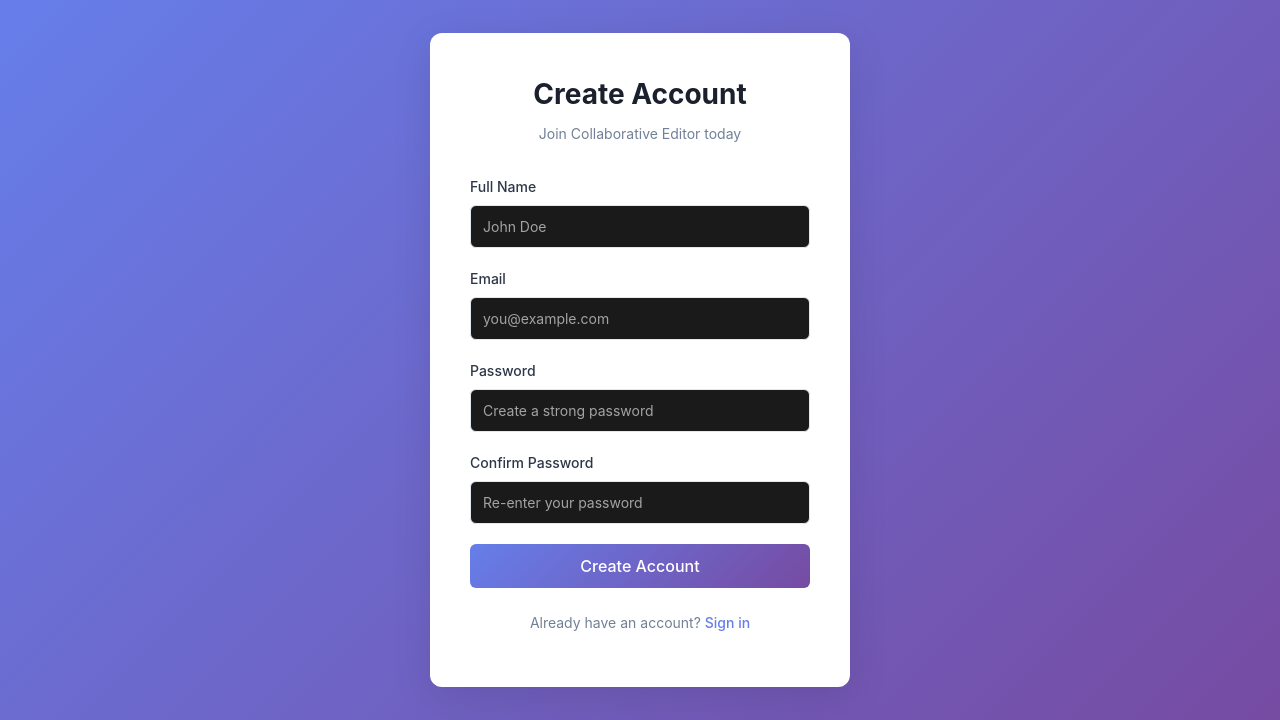
Test: Register Component › shows error when password is too short
In the field labelled "Full Name": {"x": 640, "y": 226} [470, 205, 810, 248], type "Test User"
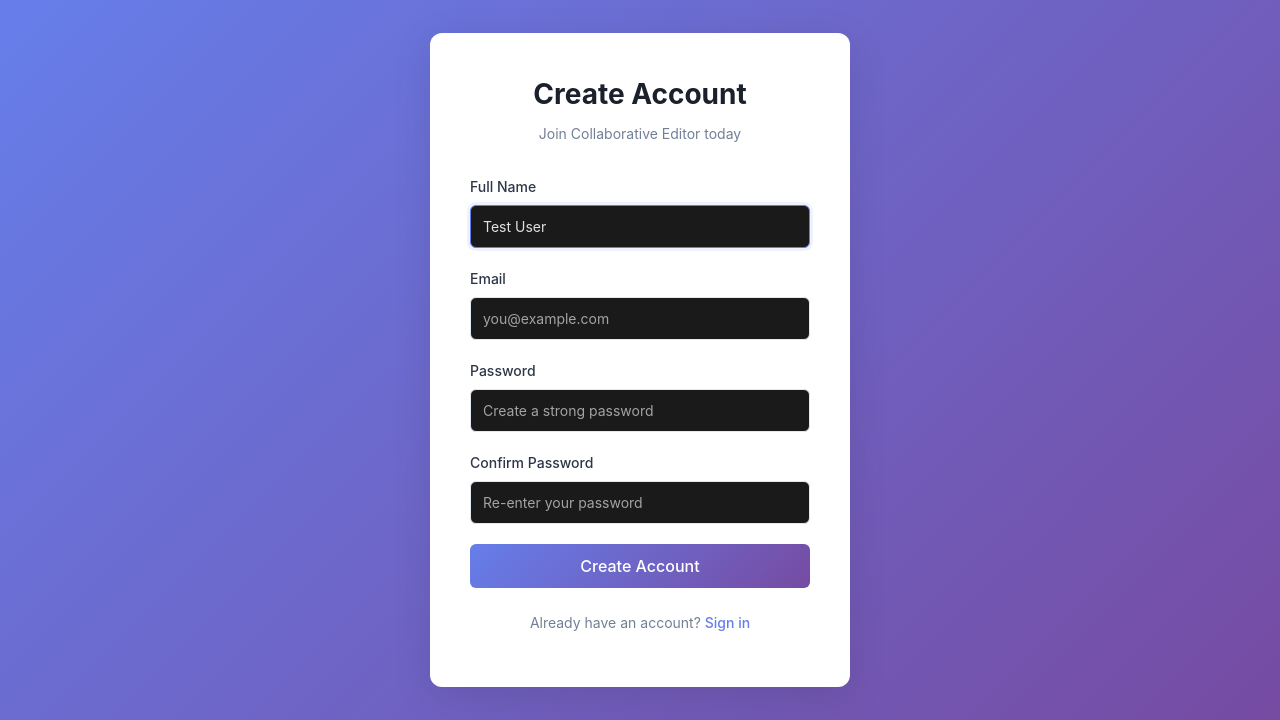
In the field labelled "Email": {"x": 640, "y": 318} [470, 297, 810, 340], type "test@example.com"
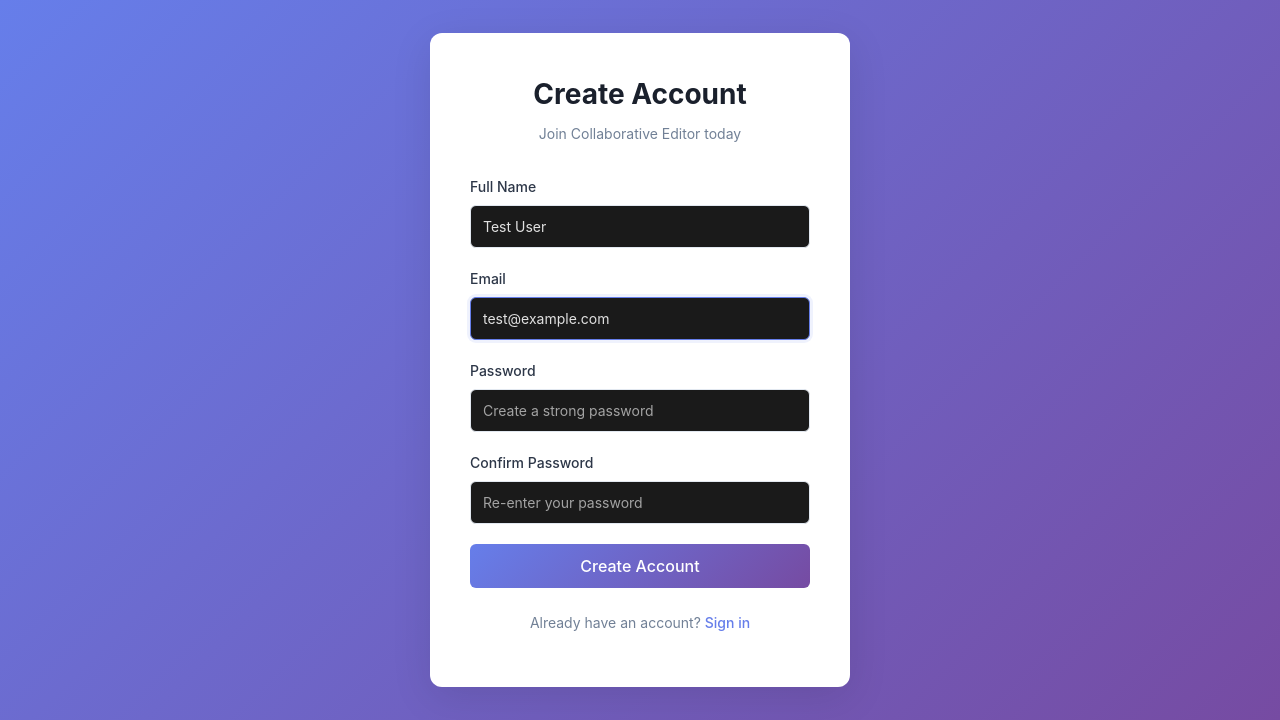
In the password field labelled "Password": {"x": 640, "y": 410} [470, 389, 810, 432], type "short"
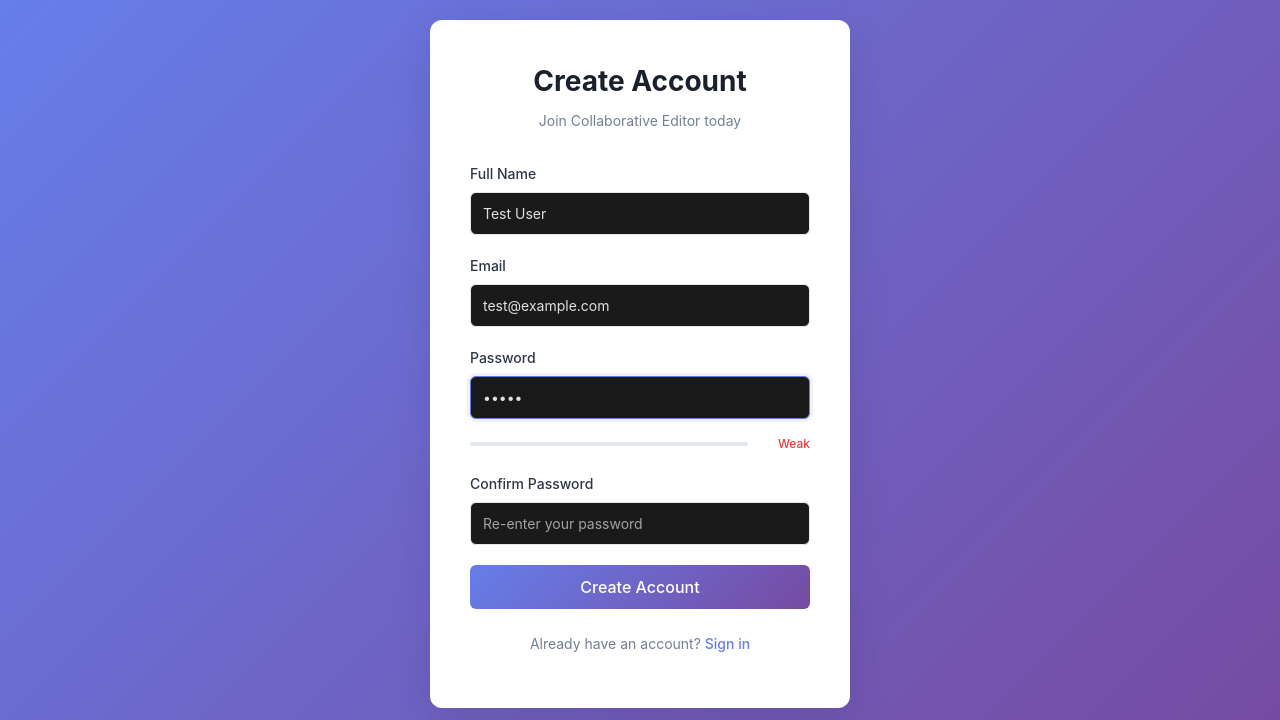
In the password field labelled "Confirm Password": {"x": 640, "y": 524} [470, 502, 810, 545], type "short"
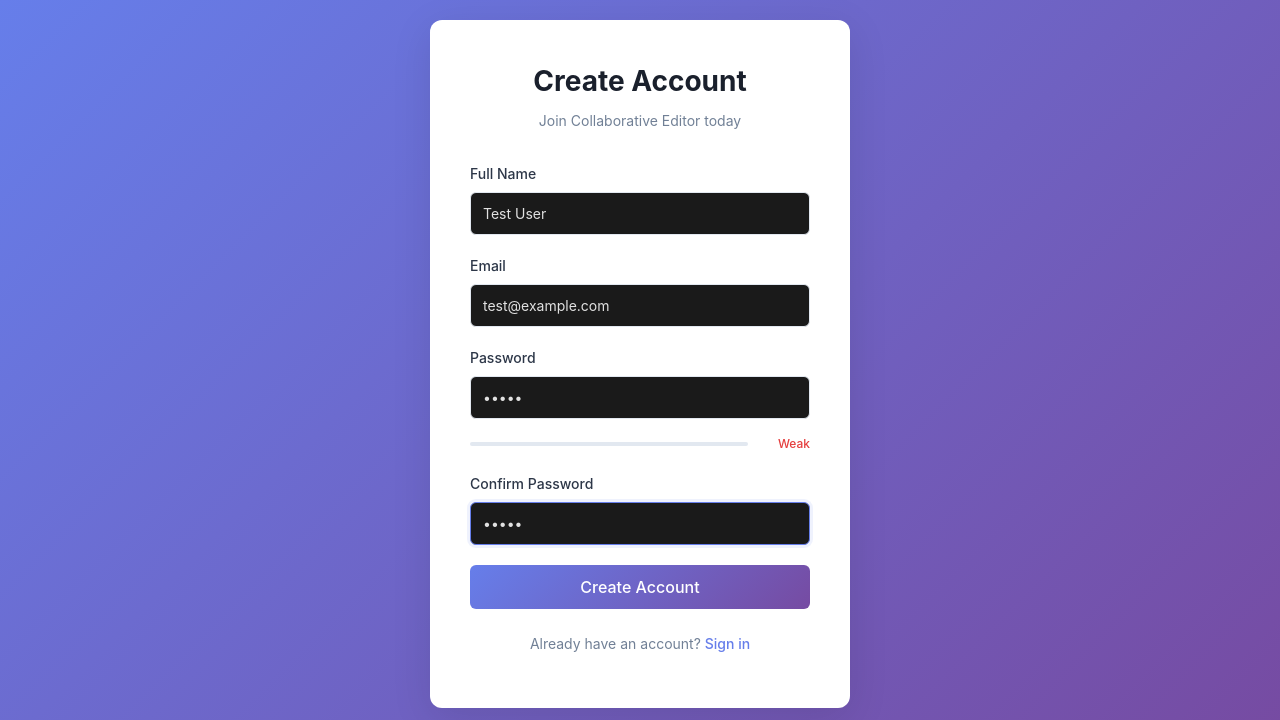
Click the button "Create Account": {"x": 640, "y": 587} [470, 565, 810, 609]
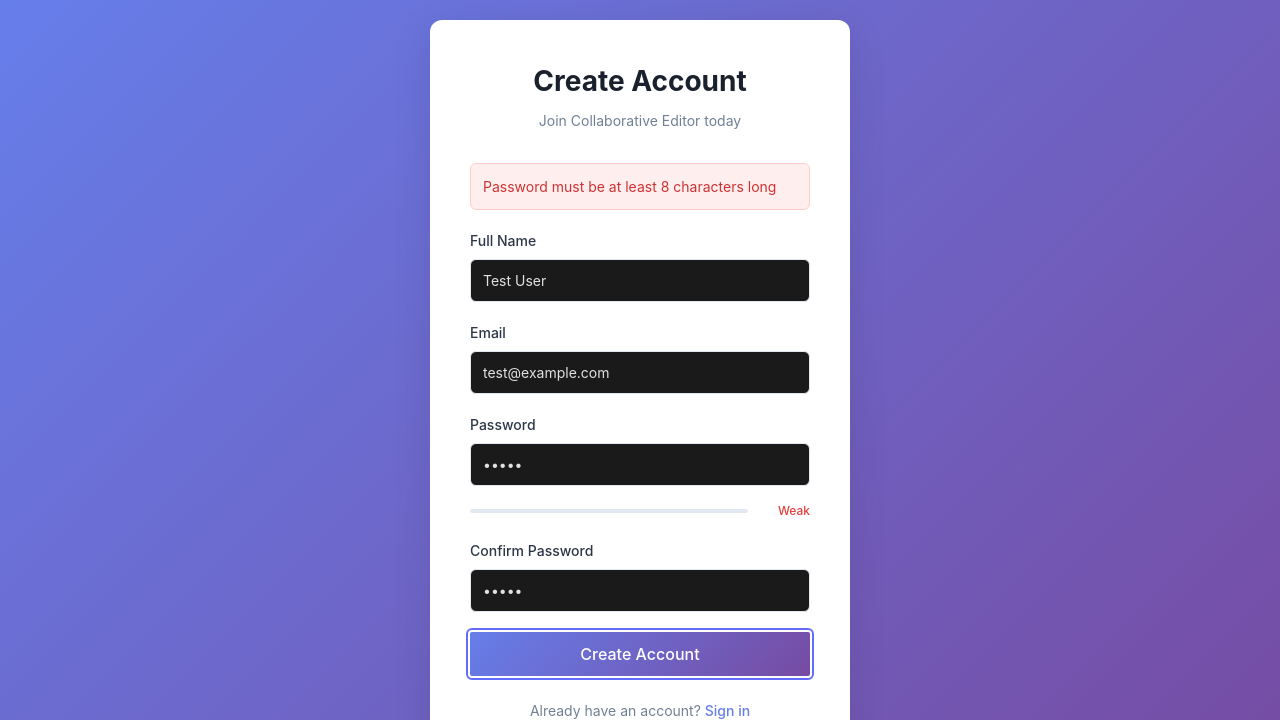
Now the message shows "at least 8 characters", box [483, 178, 776, 195]
